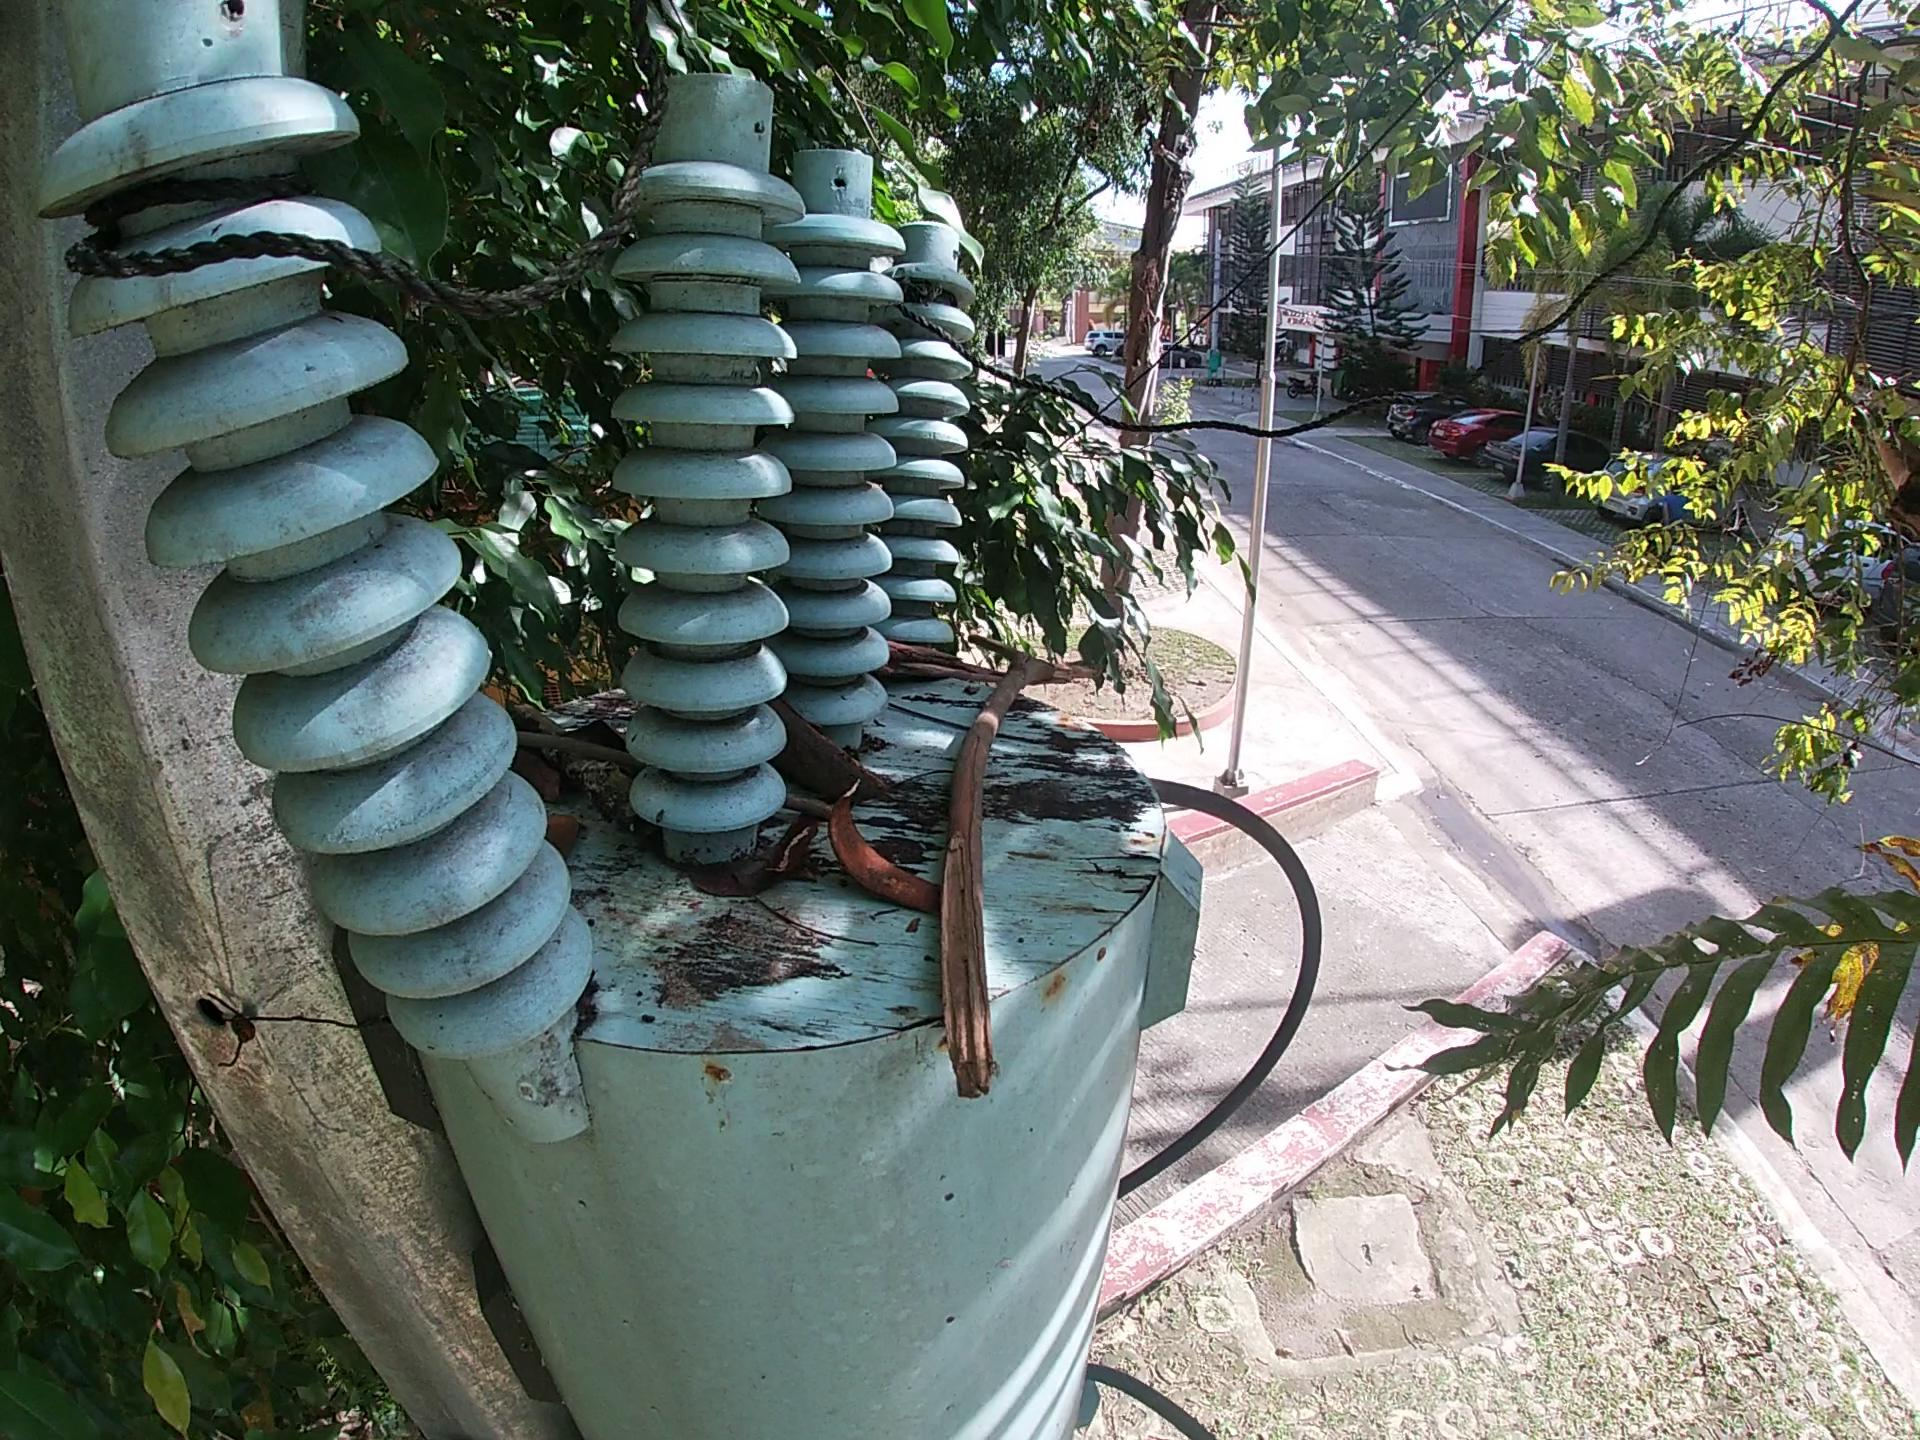leaf: (683, 871, 771, 912), (565, 717, 632, 753), (529, 759, 571, 811), (543, 817, 588, 843)
mahogany fruit: (771, 696, 930, 814), (827, 782, 934, 932)
tree branch: (930, 646, 1113, 1131), (503, 690, 655, 836), (760, 900, 904, 964), (502, 723, 632, 773), (871, 641, 1002, 687), (890, 694, 966, 740), (765, 826, 813, 879), (996, 731, 1090, 750), (765, 802, 835, 826)
